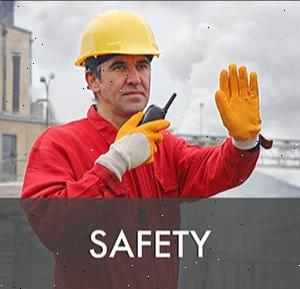helmet: (75, 10, 165, 64)
